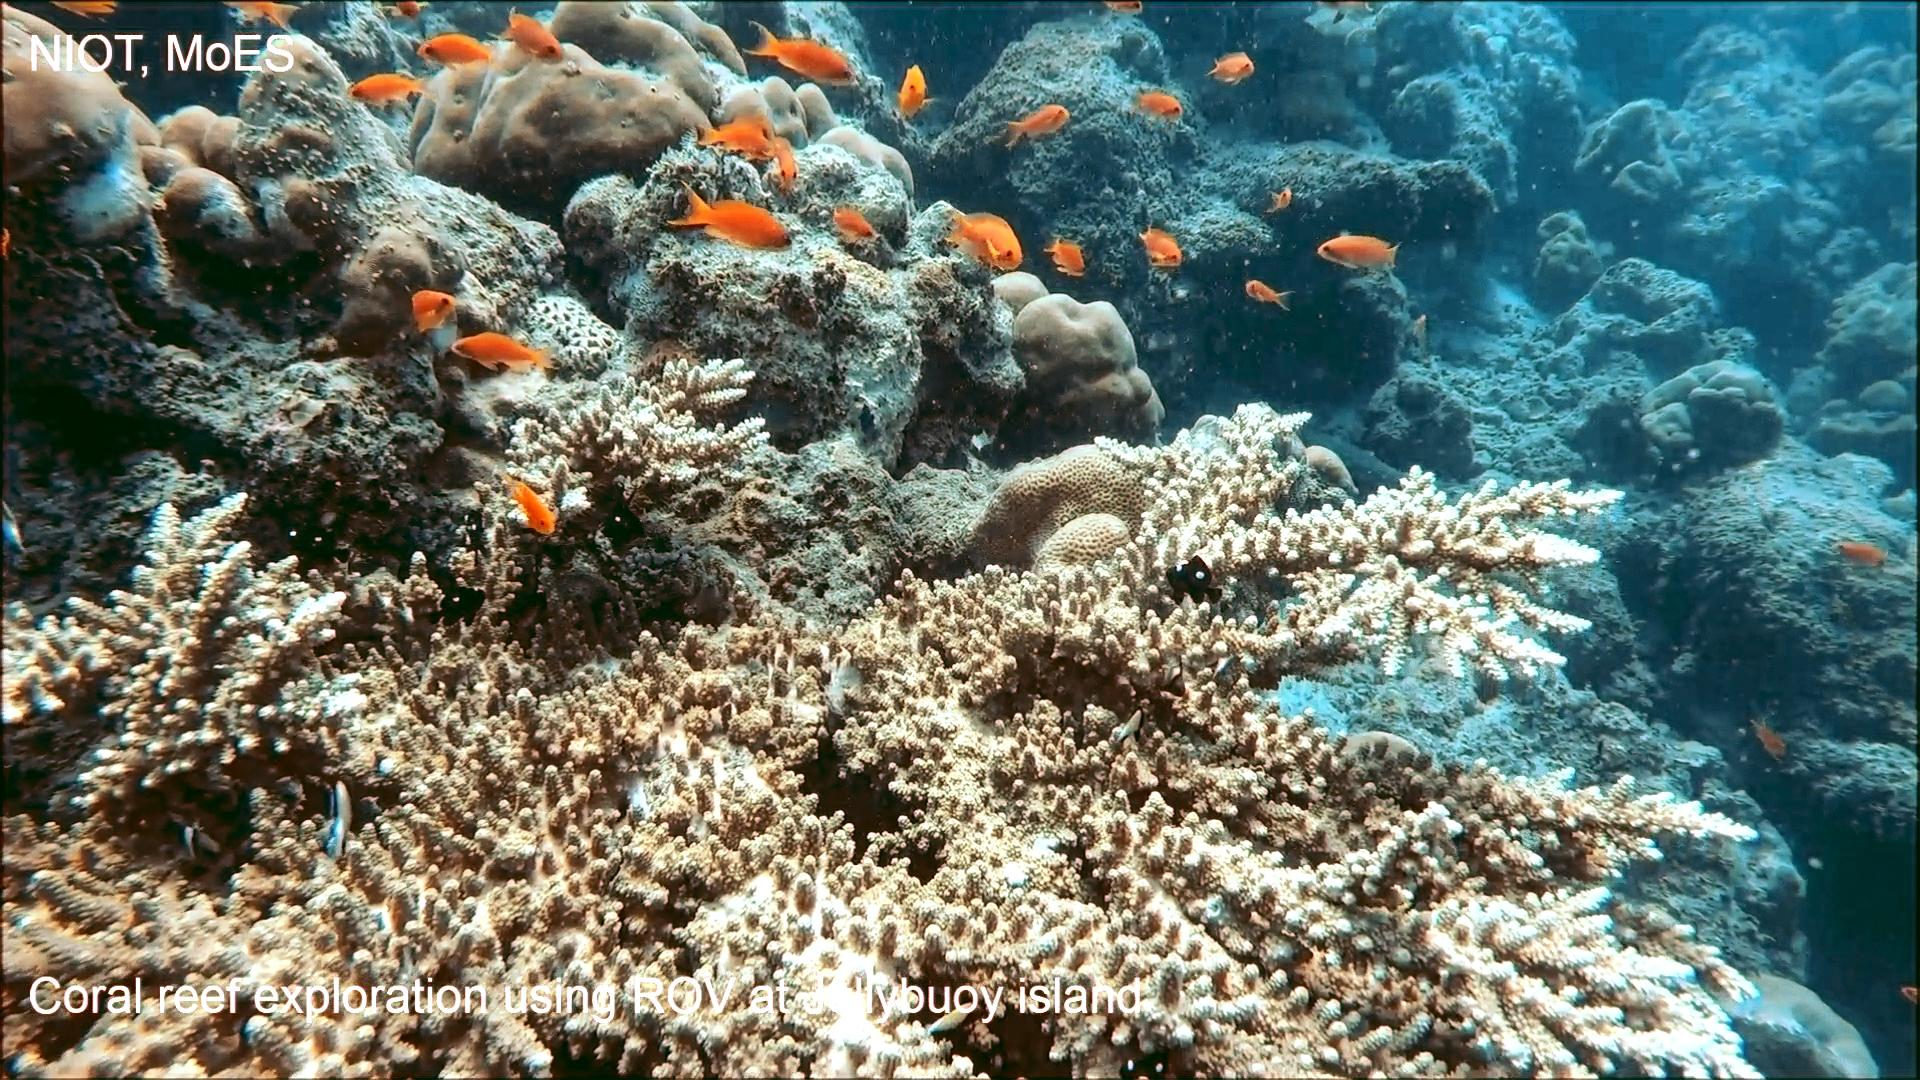Porites-Porites pukoensis: (401, 0, 769, 202), (0, 0, 133, 212)
